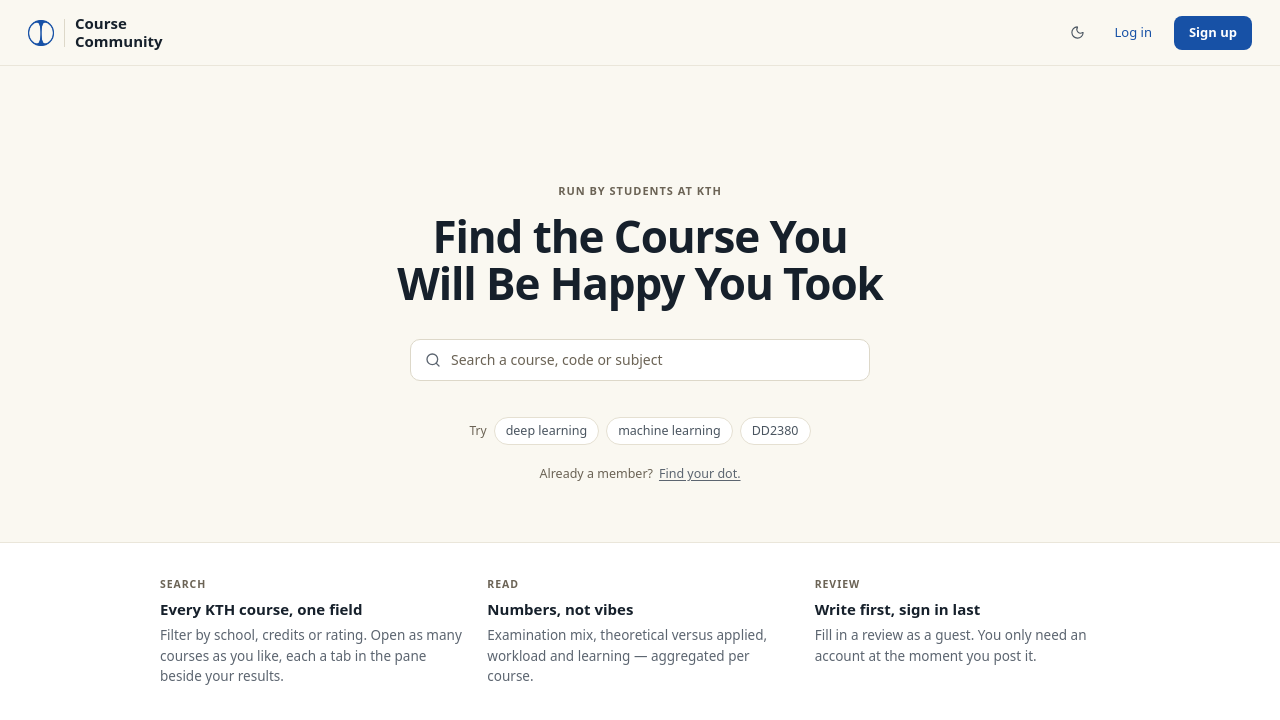
Landing › a visitor › find your dot › says the send failed, not that the address is wrong
Click the button "Find your dot." at (700, 474), box [659,465,741,483]
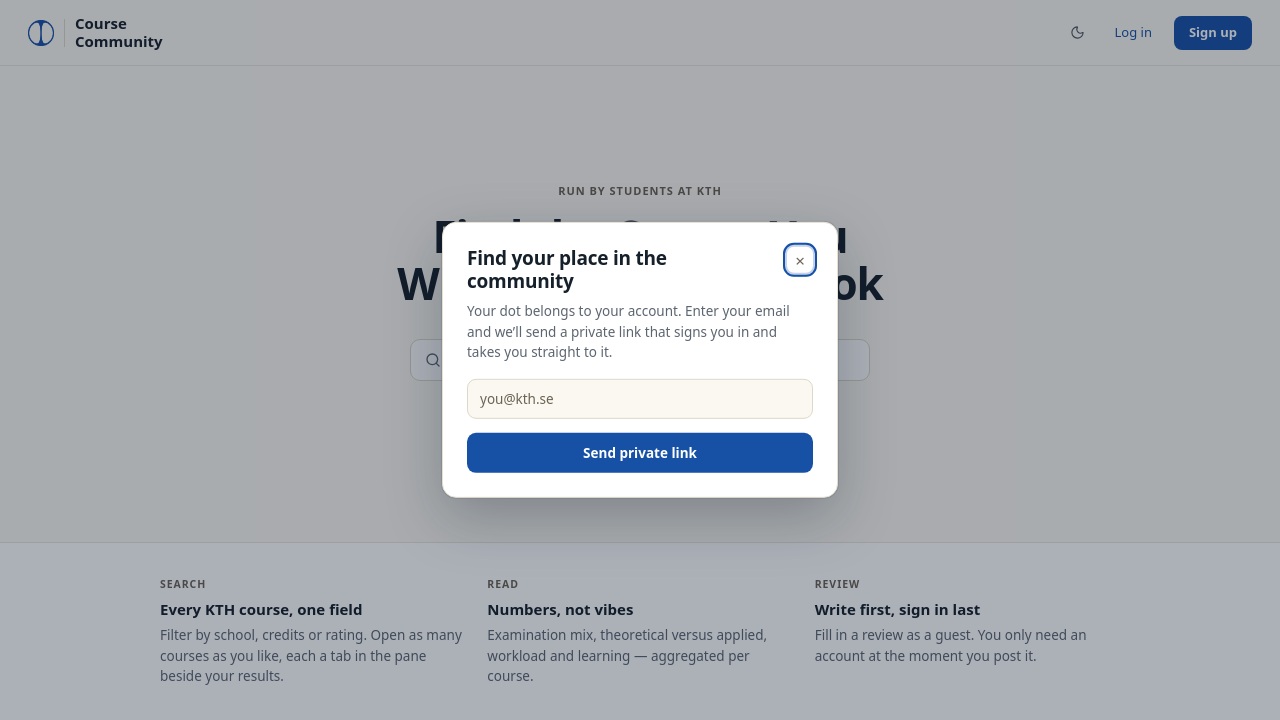
Type "elsa@kth.se" into the field named "email address" at (640, 399), box [467,379,813,419]
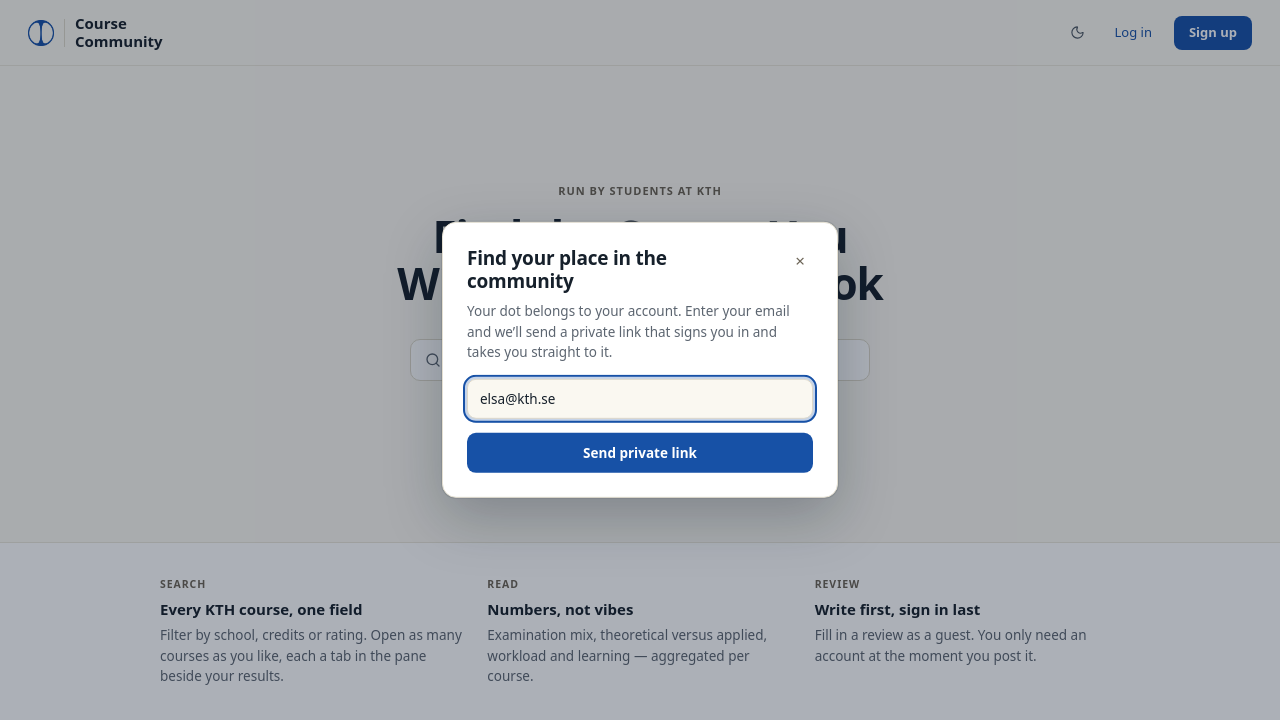
Click the button "Send private link" at (640, 453), box [467,433,813,473]
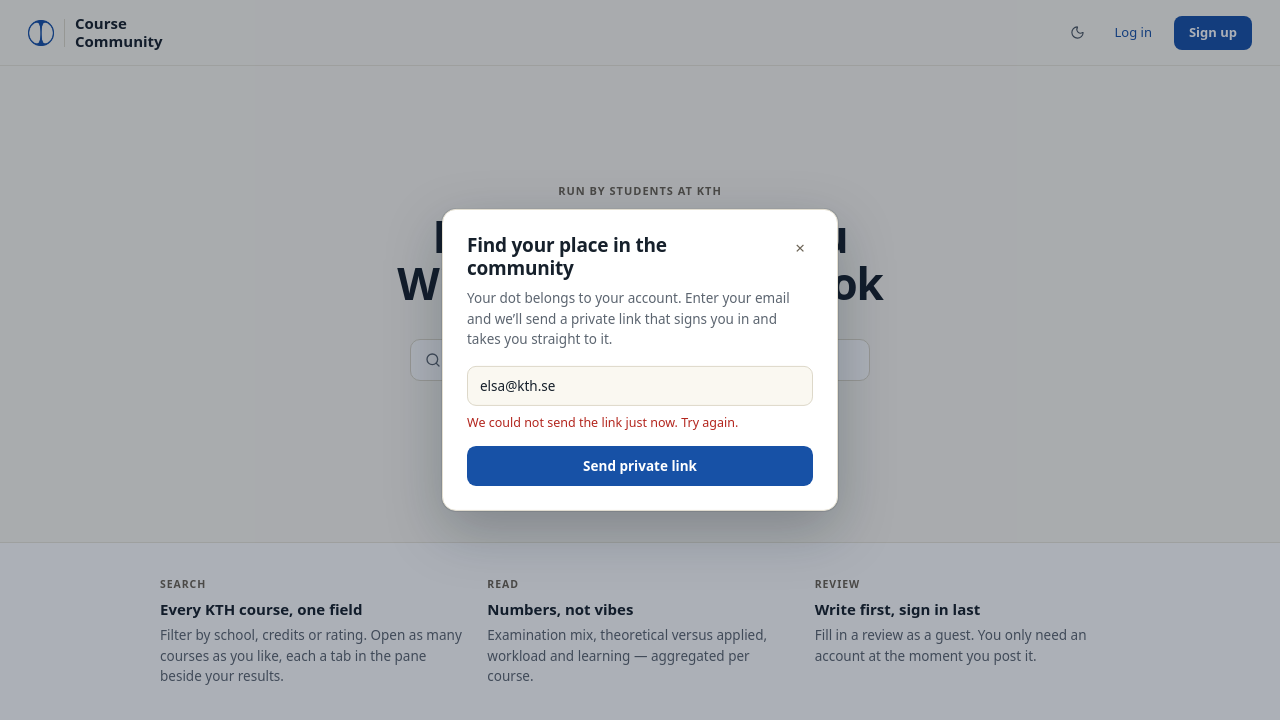
Check: the text "We could not send the link just now. Try again." is shown, box [467,414,738,431]
